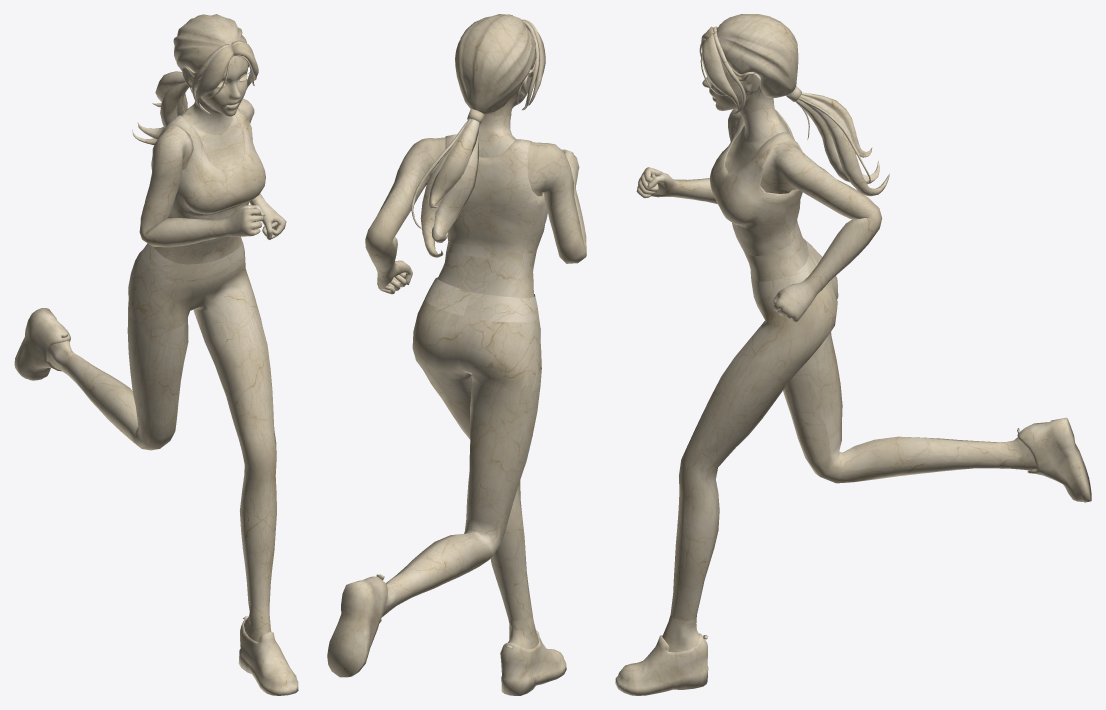
The model's file is Sample_Avatar_W_002.fbx.
The picture shows the model from 3 angles, left to right: view 1: azimuth 30°, elevation 25°; view 2: azimuth 150°, elevation 25°; view 3: azimuth 270°, elevation 25°; orthographic projection. The views are drawn at different scales.
Visible parts, largest first — view 1: Sample_Avatar_W_002; view 2: Sample_Avatar_W_002; view 3: Sample_Avatar_W_002.
Part boxes in pixels (x1,y1,x2,y2): Sample_Avatar_W_002: (14,14,298,695); Sample_Avatar_W_002: (327,14,586,695); Sample_Avatar_W_002: (615,14,1091,695).
Size of the model in its own units: 0.4519 by 1.67 by 1.09.
